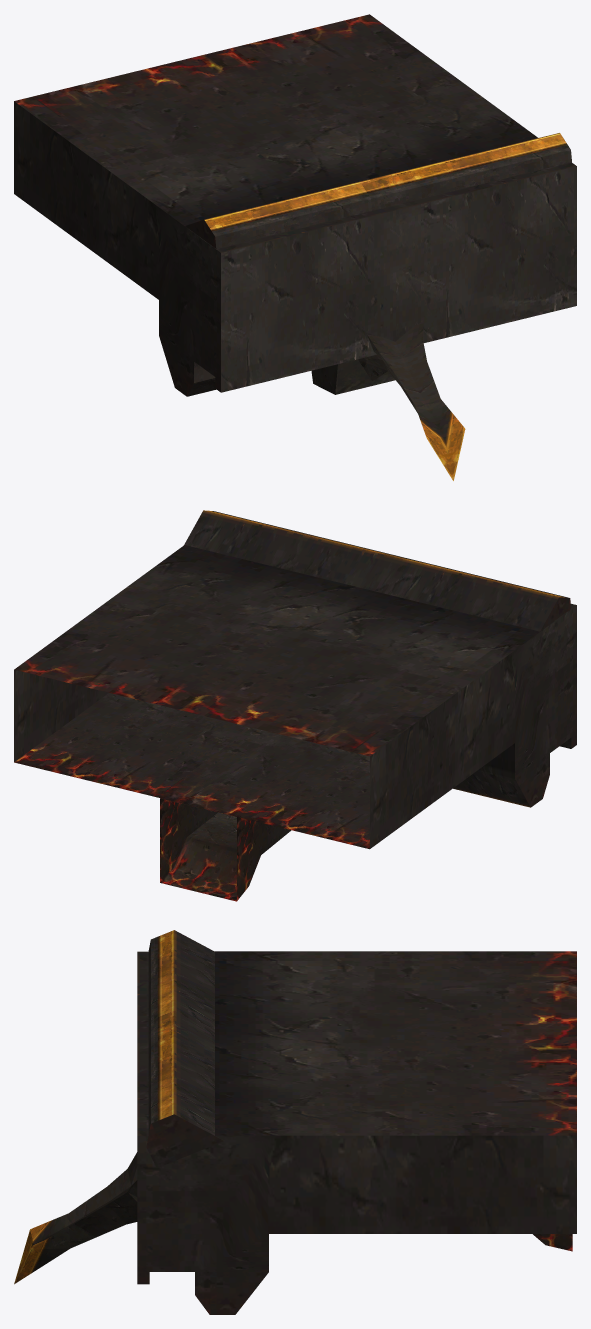
Rendered from juqing_fuben_292_wall_01.obj.
The picture shows the model from 3 angles, top to bottom: view 1: azimuth 30°, elevation 25°; view 2: azimuth 150°, elevation 25°; view 3: azimuth 270°, elevation 25°; orthographic projection. The views are drawn at different scales.
Parts seen in each view (by area): view 1: Object01; view 2: Object01; view 3: Object01.
Part boxes in pixels (<box>): Object01: <box>14,14,576,480</box>; Object01: <box>14,510,576,901</box>; Object01: <box>14,930,576,1314</box>.
Bounding box in the file's own units: 260 × 173 × 335.
2 materials, 2 textured.
